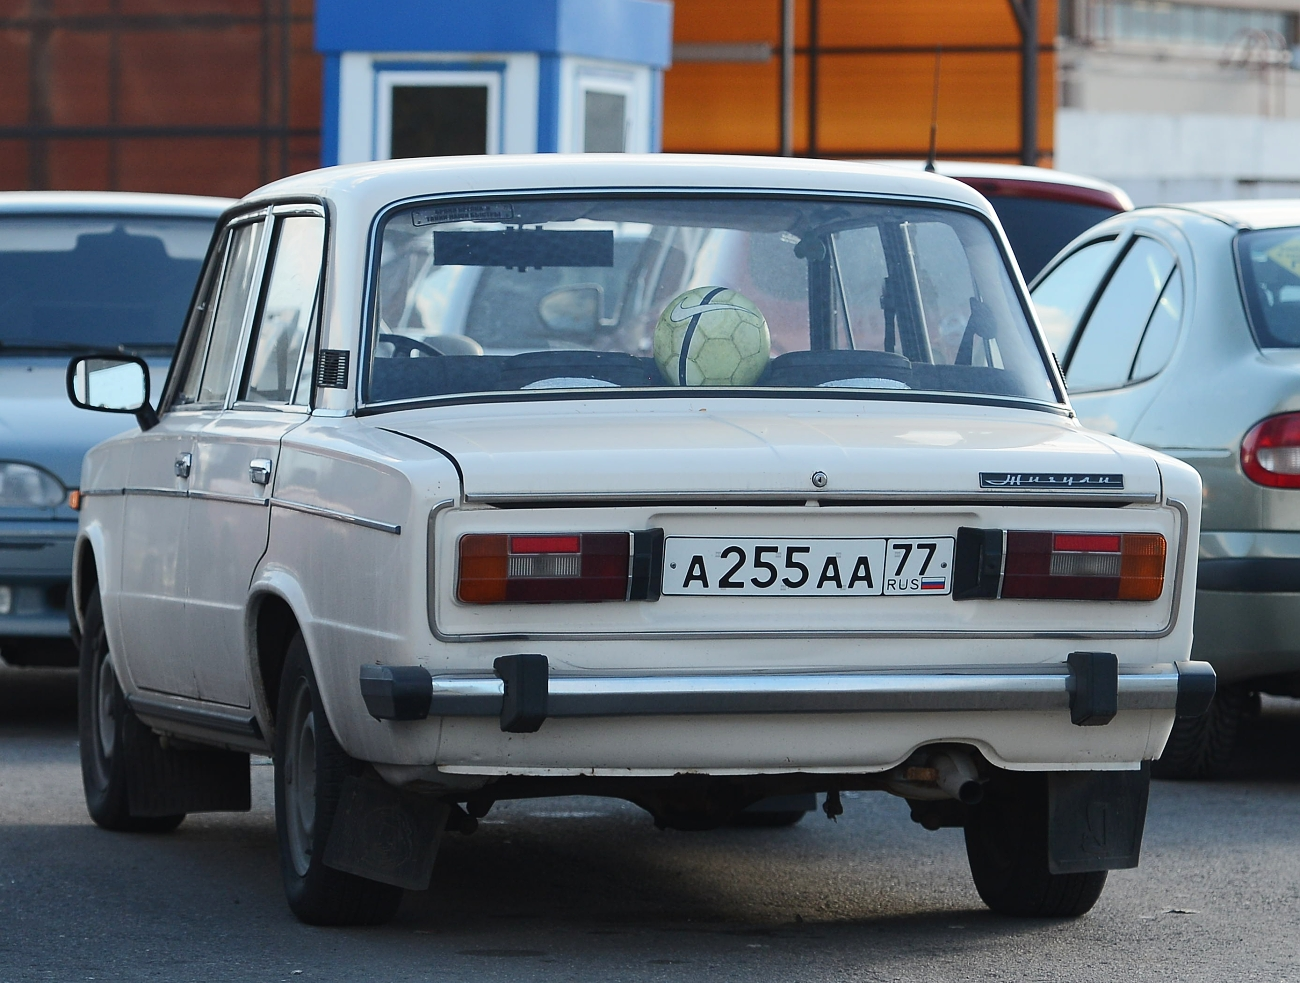number_plate: (660, 530, 955, 603)
